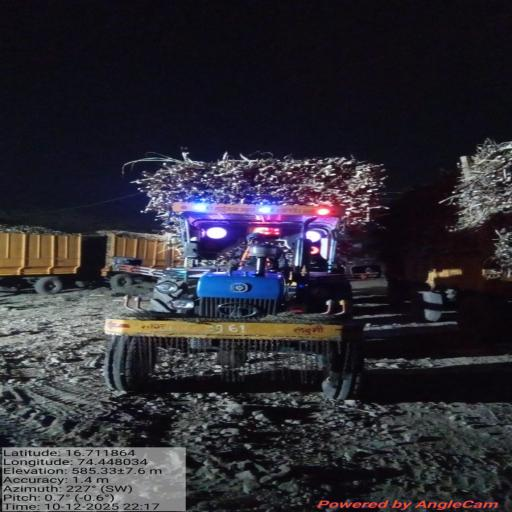number_plate: (165, 314, 276, 340)
